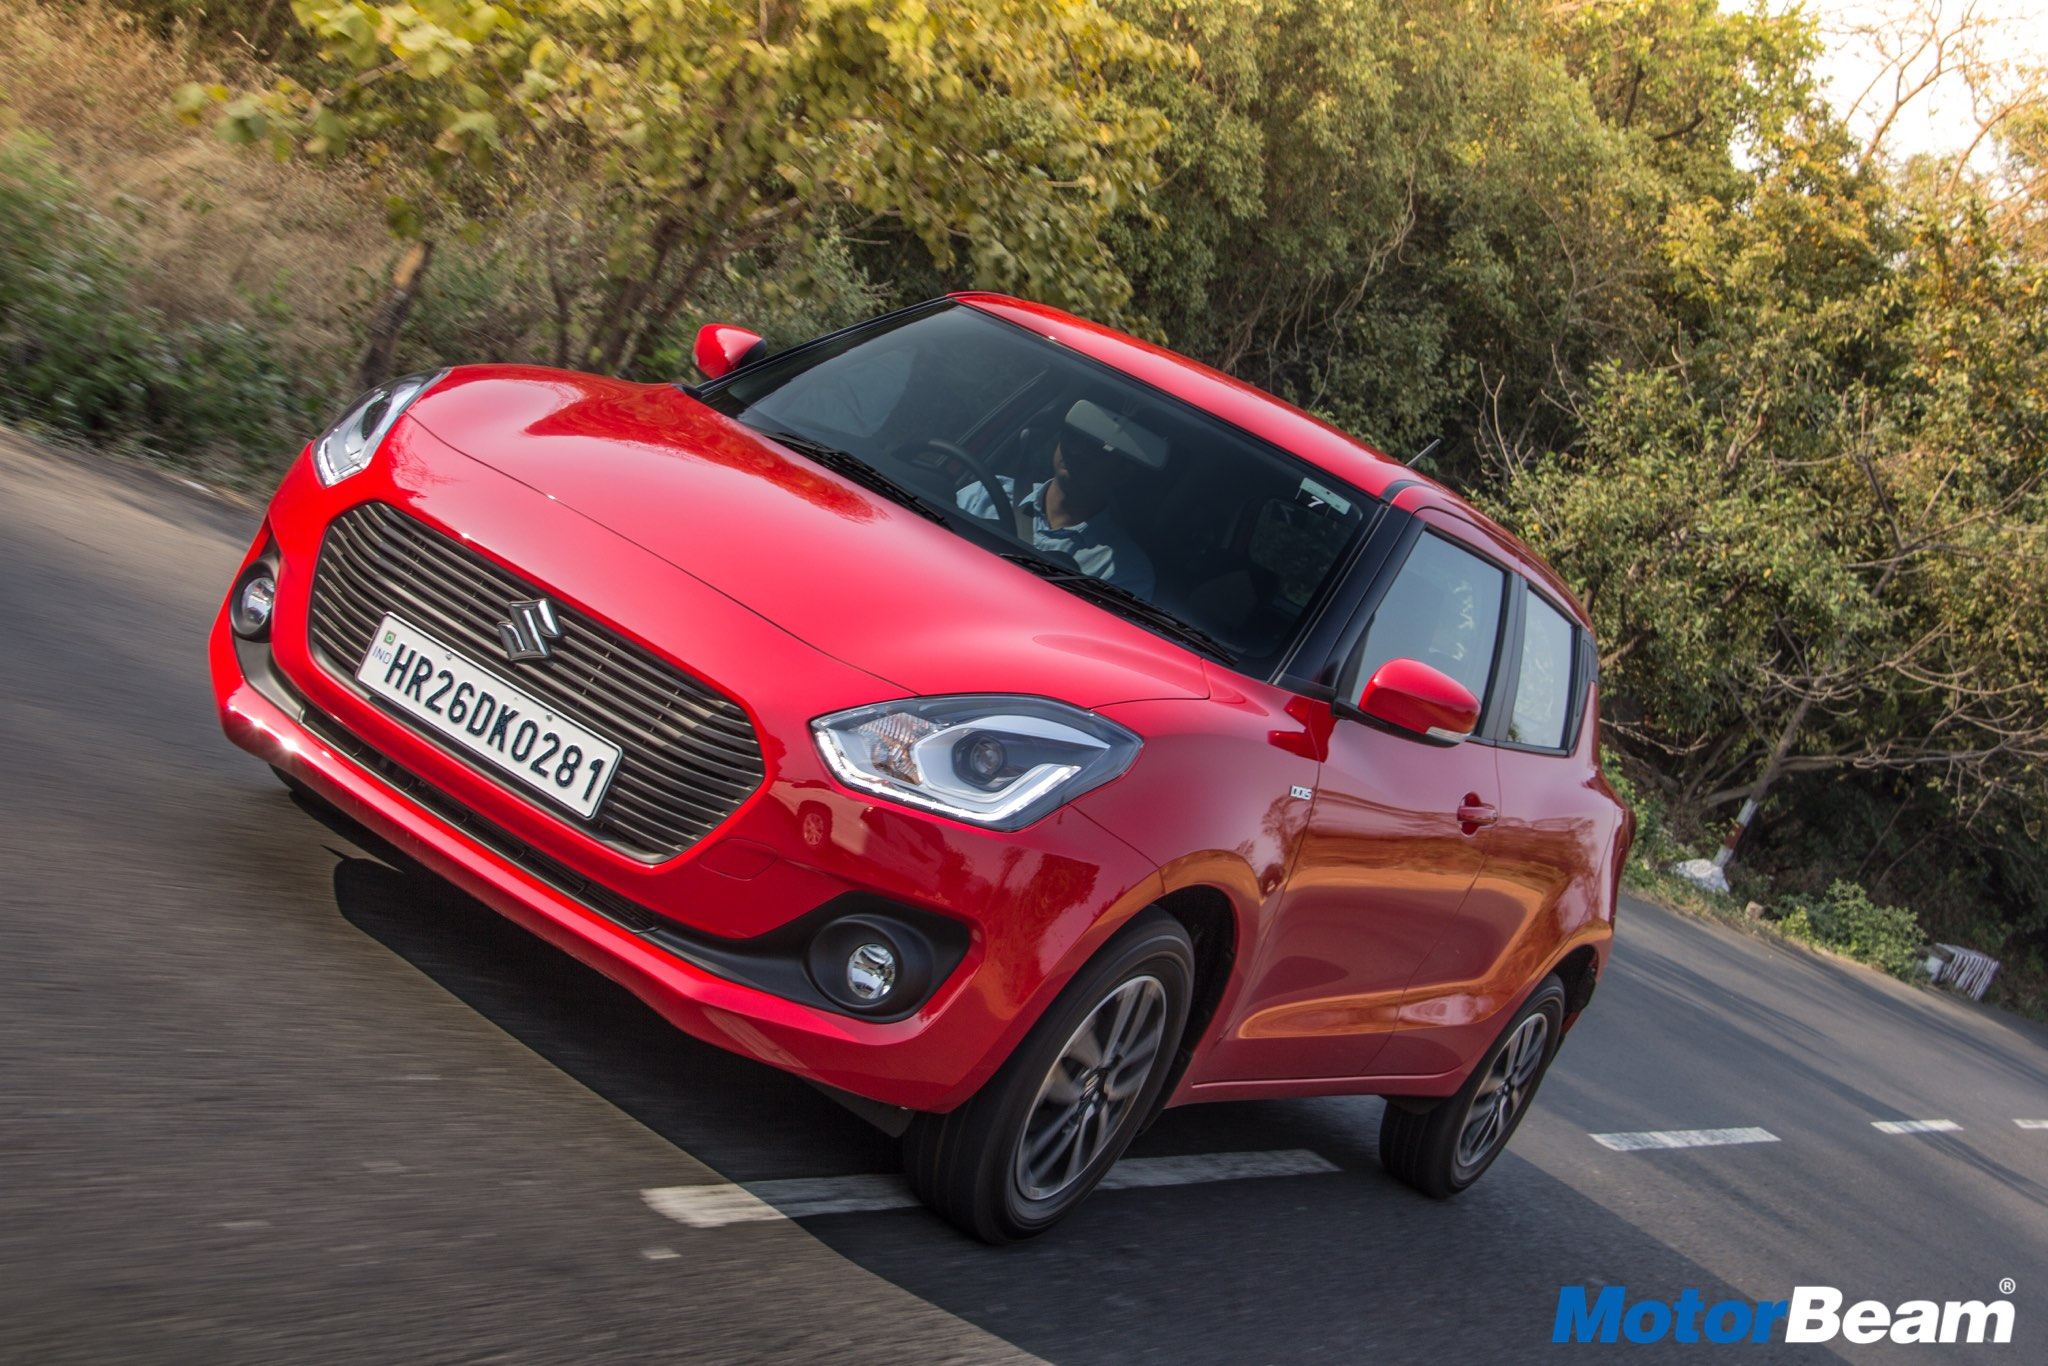numberplate: (352, 603, 624, 824)
